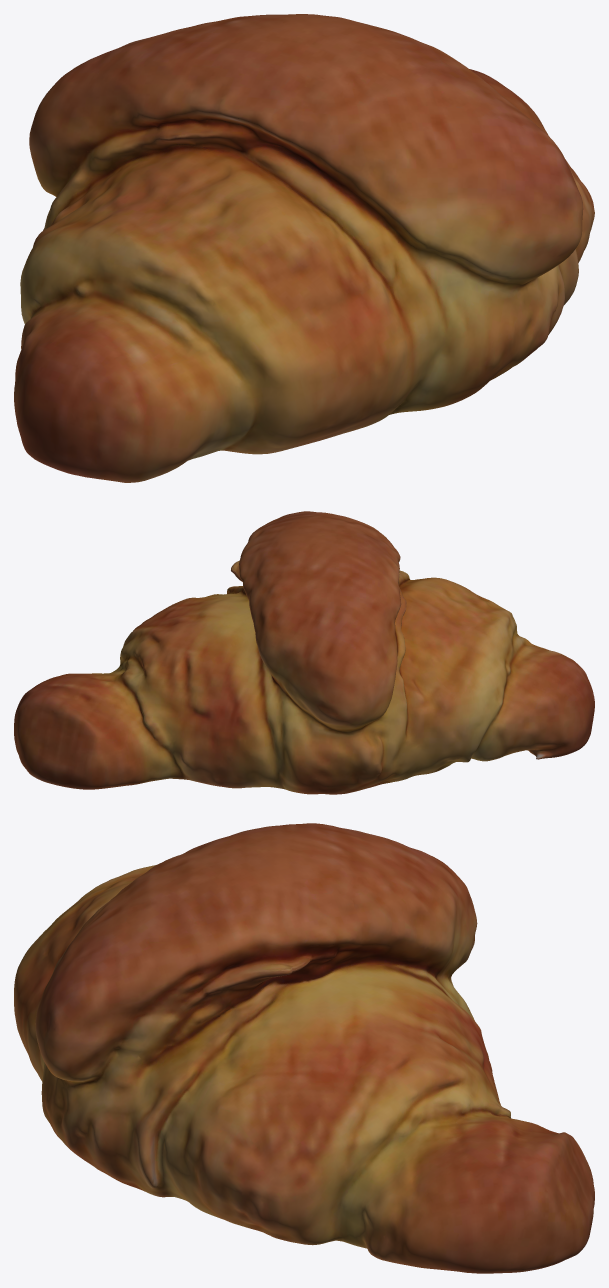
Rendered from d90018947f66_realistic_croissant.fbx.
3 renders of one model, top to bottom at view 1: azimuth 30°, elevation 25°; view 2: azimuth 150°, elevation 25°; view 3: azimuth 270°, elevation 25°, orthographic. The views are drawn at different scales.
Parts seen in each view (by area): view 1: high_poly; view 2: high_poly; view 3: high_poly.
Part boxes in pixels (x1,y1,x2,y2): high_poly: (14,14,594,482); high_poly: (14,511,594,794); high_poly: (14,823,594,1273).
Bounding box in the file's own units: 100 × 44.58 × 80.2.
